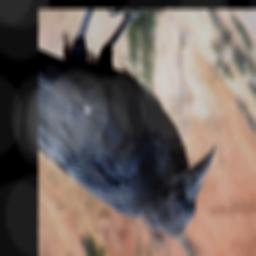Crow: (39, 9, 216, 243)
